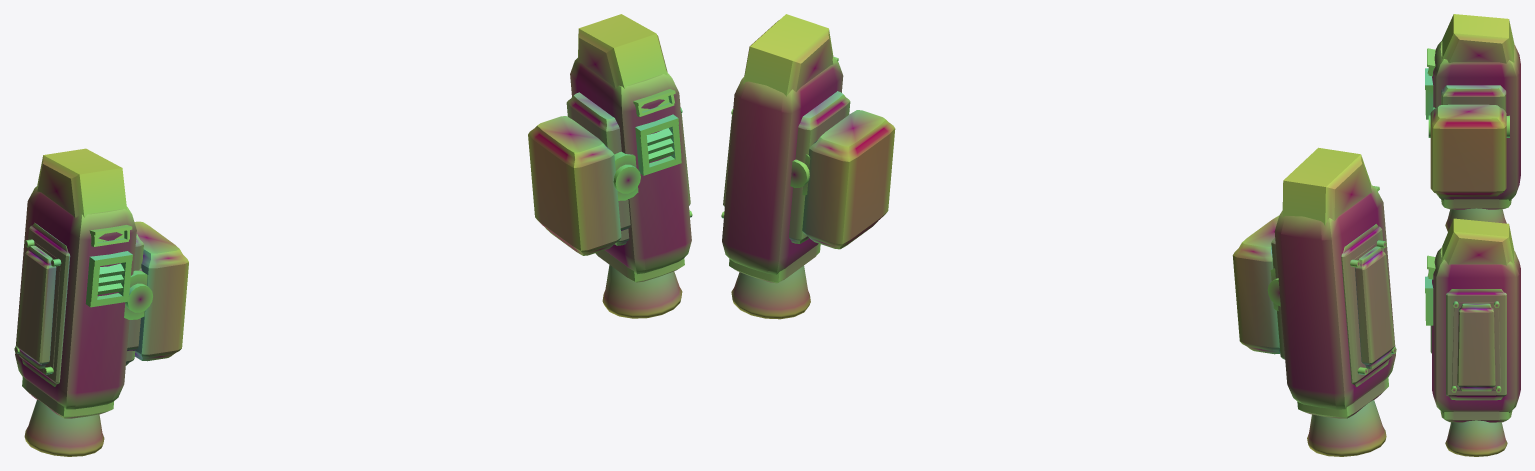
File: llm_gen_leg_thrusters_034_d3aacd.glb
3 renders of one model, left to right at view 1: azimuth 30°, elevation 25°; view 2: azimuth 150°, elevation 25°; view 3: azimuth 270°, elevation 25°, orthographic. The views are drawn at different scales.
Parts seen in each view (by area): view 1: calf_thruster_hull_1_barrel_metal_l, adapter_calf_clamp_r, calf_thruster_hull_1_barrel_metal_r, adapter_calf_clamp_l, nacelle_upper_cowl_2_barrel_metal_r, nacelle_upper_cowl_2_barrel_metal_l, nacelle_flank_armor_6_barrel_metal_l, calf_main_bell_8_vernier_bell_vernier_l, calf_main_bell_8_vernier_bell_vernier_r, adapter_sub_flank_frame_dark_5_adapter_dark_l, adapter_sub_tank_cradle_dark_0_adapter_dark_r, adapter_sub_nacelle_intake_louver_3_dark_l (+5 smaller); view 2: calf_thruster_hull_1_barrel_metal_l, calf_thruster_hull_1_barrel_metal_r, adapter_calf_clamp_r, nacelle_upper_cowl_2_barrel_metal_r, nacelle_upper_cowl_2_barrel_metal_l, adapter_calf_clamp_l, nacelle_flank_armor_6_barrel_metal_l, calf_main_bell_8_vernier_bell_vernier_l, calf_main_bell_8_vernier_bell_vernier_r, adapter_sub_tank_cradle_dark_0_adapter_dark_r, adapter_sub_flank_frame_dark_5_adapter_dark_l, adapter_sub_nozzle_shroud_dark_7_adapter_dark_l (+1 smaller); view 3: adapter_calf_clamp_l, calf_thruster_hull_1_barrel_metal_r, calf_thruster_hull_1_barrel_metal_l, nacelle_flank_armor_6_barrel_metal_r, nacelle_upper_cowl_2_barrel_metal_l, nacelle_upper_cowl_2_barrel_metal_r, adapter_sub_flank_frame_dark_5_adapter_dark_r, calf_main_bell_8_vernier_bell_vernier_r, adapter_sub_tank_cradle_dark_0_adapter_dark_l, calf_main_bell_8_vernier_bell_vernier_l, adapter_sub_nozzle_shroud_dark_7_adapter_dark_r, adapter_sub_nozzle_shroud_dark_7_adapter_dark_l (+5 smaller).
Part boxes in pixels (x1,y1,x2,y2): calf_thruster_hull_1_barrel_metal_l: [15, 185, 136, 409]; adapter_calf_clamp_r: [528, 116, 638, 255]; calf_thruster_hull_1_barrel_metal_r: [570, 57, 691, 274]; adapter_calf_clamp_l: [124, 221, 188, 361]; nacelle_upper_cowl_2_barrel_metal_r: [578, 14, 667, 88]; nacelle_upper_cowl_2_barrel_metal_l: [37, 148, 127, 217]; nacelle_flank_armor_6_barrel_metal_l: [14, 239, 61, 374]; calf_main_bell_8_vernier_bell_vernier_l: [24, 400, 104, 456]; calf_main_bell_8_vernier_bell_vernier_r: [602, 265, 682, 318]; adapter_sub_flank_frame_dark_5_adapter_dark_l: [18, 223, 70, 386]; adapter_sub_tank_cradle_dark_0_adapter_dark_r: [566, 92, 629, 245]; adapter_sub_nacelle_intake_louver_3_dark_l: [85, 251, 132, 307]; calf_thruster_hull_1_barrel_metal_l: [1274, 185, 1395, 409]; calf_thruster_hull_1_barrel_metal_r: [722, 57, 843, 274]; adapter_calf_clamp_r: [802, 110, 895, 249]; nacelle_upper_cowl_2_barrel_metal_r: [743, 14, 833, 96]; nacelle_upper_cowl_2_barrel_metal_l: [1282, 147, 1371, 225]; adapter_calf_clamp_l: [1232, 215, 1280, 354]; nacelle_flank_armor_6_barrel_metal_l: [1350, 240, 1396, 374]; calf_main_bell_8_vernier_bell_vernier_l: [1307, 400, 1386, 456]; calf_main_bell_8_vernier_bell_vernier_r: [731, 265, 810, 319]; adapter_sub_tank_cradle_dark_0_adapter_dark_r: [789, 91, 850, 243]; adapter_sub_flank_frame_dark_5_adapter_dark_l: [1341, 224, 1392, 387]; adapter_sub_nozzle_shroud_dark_7_adapter_dark_l: [1297, 377, 1388, 418]; adapter_calf_clamp_l: [1430, 104, 1506, 196]; calf_thruster_hull_1_barrel_metal_r: [1432, 247, 1520, 412]; calf_thruster_hull_1_barrel_metal_l: [1432, 41, 1520, 200]; nacelle_flank_armor_6_barrel_metal_r: [1451, 301, 1501, 392]; nacelle_upper_cowl_2_barrel_metal_l: [1442, 14, 1514, 63]; nacelle_upper_cowl_2_barrel_metal_r: [1441, 218, 1514, 265]; adapter_sub_flank_frame_dark_5_adapter_dark_r: [1446, 289, 1506, 400]; calf_main_bell_8_vernier_bell_vernier_r: [1445, 420, 1507, 456]; adapter_sub_tank_cradle_dark_0_adapter_dark_l: [1441, 85, 1506, 112]; calf_main_bell_8_vernier_bell_vernier_l: [1445, 208, 1506, 231]; adapter_sub_nozzle_shroud_dark_7_adapter_dark_r: [1440, 411, 1512, 422]; adapter_sub_nozzle_shroud_dark_7_adapter_dark_l: [1441, 199, 1511, 209].
Size of the model in its own units: 84.47 by 34.78 by 13.92.
